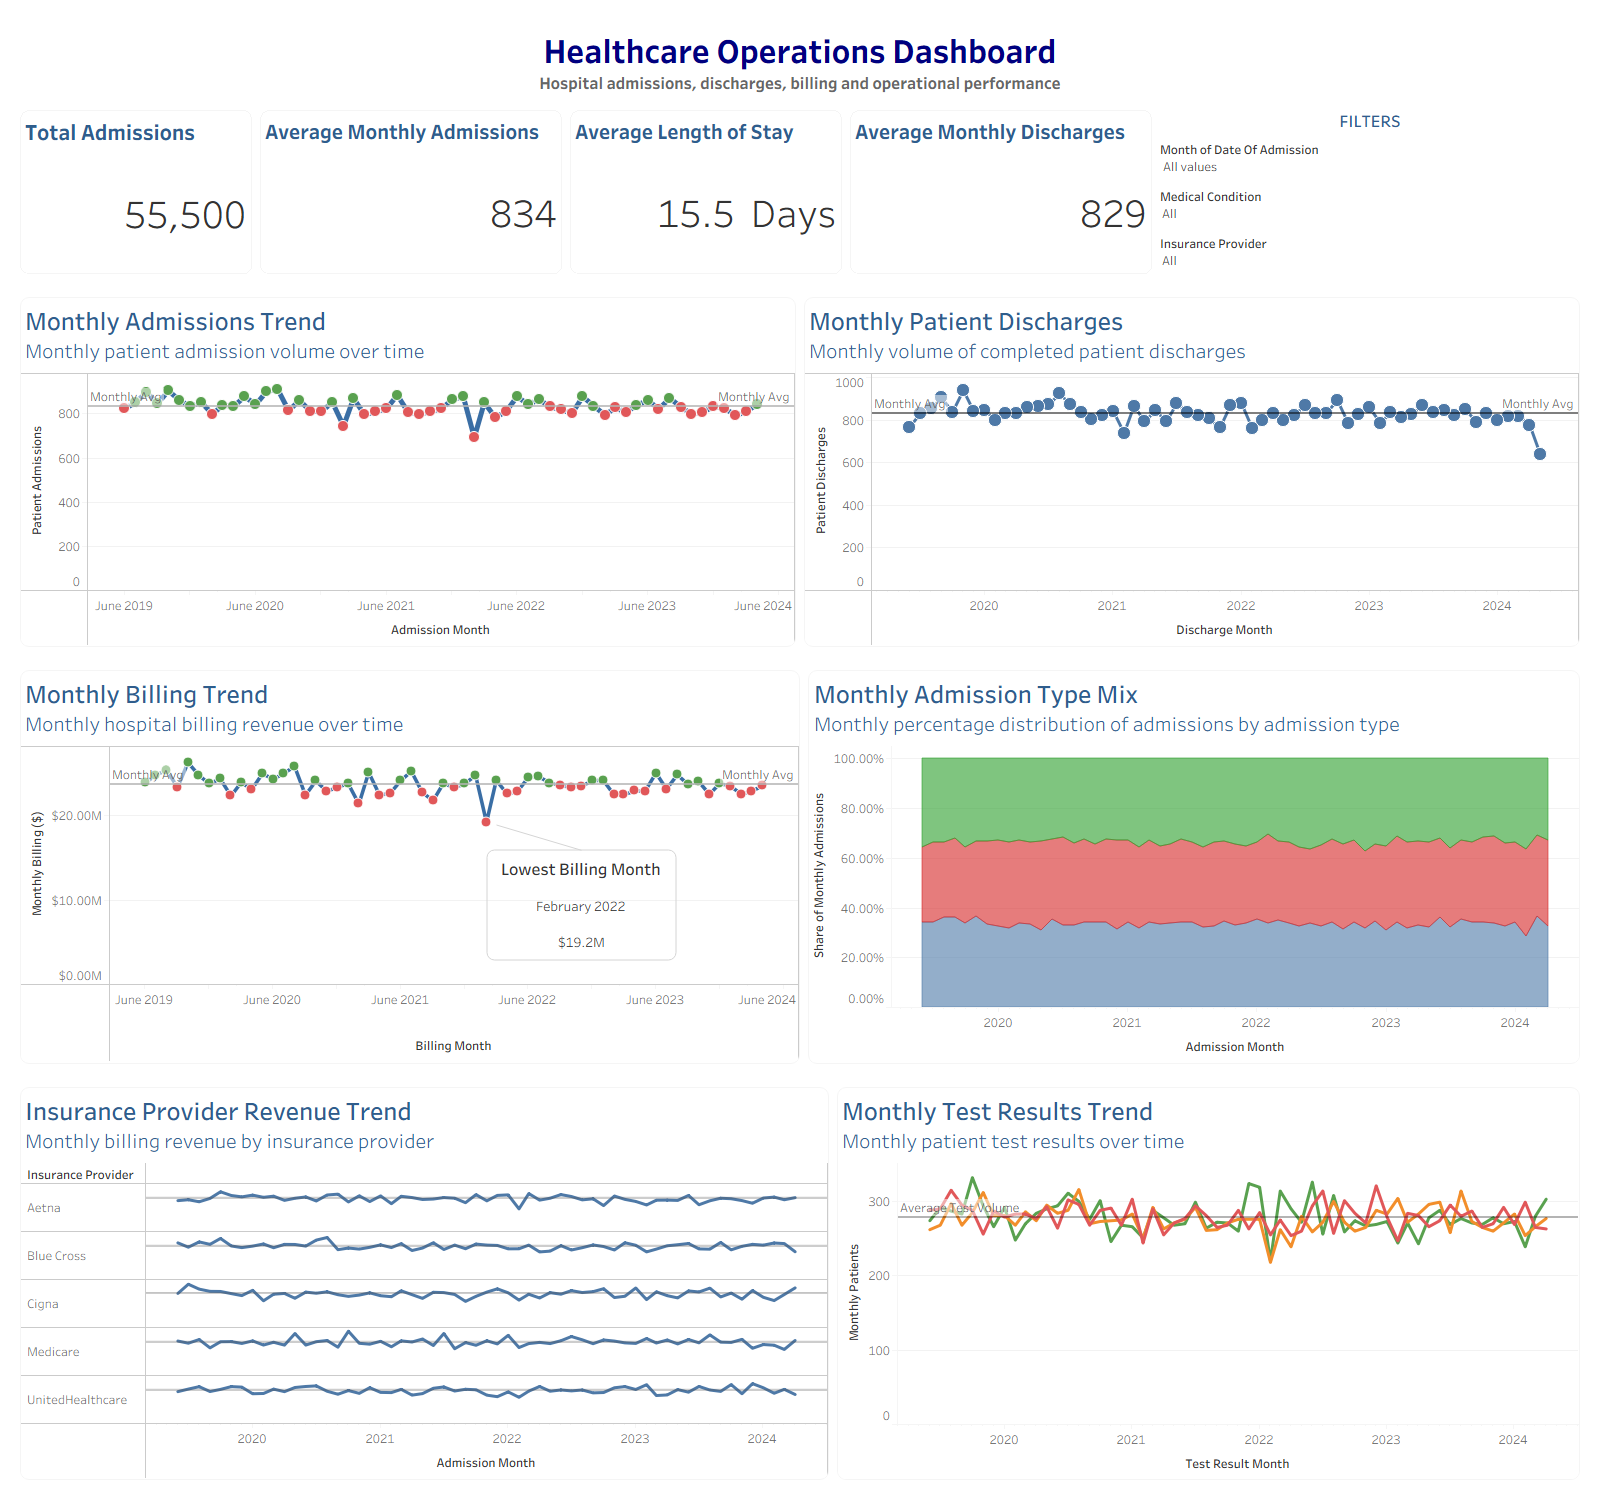

This screenshot's page, from the dashboard's own definition file:
{"tool":"tableau","page":{"name":"Healthcare Operations Dashboard","canvas":[1600,1500],"ordinal":2},"visuals":[{"type":"text","box":[16,16,1568,90]},{"type":"worksheet","title":"KPI_Total_Admissions","mark":"Automatic","box":[16,106,240,172]},{"type":"worksheet","title":"KPI_Average_Monthly_Admissions","mark":"Automatic","box":[256,106,310,172]},{"type":"worksheet","title":"KPI_Average_Length_of_Stay","mark":"Automatic","box":[566,106,280,172]},{"type":"worksheet","title":"KPI_Average_Monthly_Discharges","mark":"Automatic","box":[846,106,310,172]},{"type":"text","box":[1156,106,428,30]},{"type":"filter","title":"CH_Monthly_Admissions_Trend","param":"[federated.0p1oytu19cqjnp1az2i7l1lwrwhq].[tmn:date_of_admission:qk]","box":[1156,136,428,47]},{"type":"filter","title":"CH_Monthly_Admissions_Trend","param":"[federated.0p1oytu19cqjnp1az2i7l1lwrwhq].[none:medical_condition:nk]","box":[1156,183,428,47.5]},{"type":"filter","title":"CH_Monthly_Admissions_Trend","param":"[federated.0p1oytu19cqjnp1az2i7l1lwrwhq].[none:insurance_provider:nk]","box":[1156,230.5,428,47.5]},{"type":"blank","box":[16,278,1568,15]},{"type":"worksheet","title":"CH_Monthly_Admissions_Trend","mark":"Line","rows":["patient_name","patient_name"],"cols":["date_of_admission"],"box":[16,293,784,358]},{"type":"worksheet","title":"CH_Monthly_Discharge_Throughput","mark":"Line","rows":["patient_name","patient_name"],"cols":["discharge_date"],"box":[800,293,784,358]},{"type":"blank","box":[16,651,1568,15]},{"type":"worksheet","title":"CH_Monthly_Billing_Trend","mark":"Line","rows":["billing_amount","billing_amount"],"cols":["date_of_admission"],"box":[16,666,788.5,401.5]},{"type":"worksheet","title":"CH_Monthly_Admission_Type_Mix","mark":"Area","cols":["date_of_admission"],"box":[804.5,666,779.5,401.5]},{"type":"blank","box":[16,1067.5,1568,15]},{"type":"worksheet","title":"CH_Insurance_Provider_Revenue_Trend","mark":"Line","rows":["insurance_provider","billing_amount"],"cols":["date_of_admission"],"box":[16,1082.5,817.5,401.5]},{"type":"worksheet","title":"CH_Monthly_Test_Results_Trend","mark":"Line","rows":["patient_name"],"cols":["date_of_admission"],"box":[833.5,1082.5,750.5,401.5]}]}

Visuals, with their boxes in screenshot pixels (x1, y1, x2, y2), scaled from the page's 1600x1500 canvas onto the 1600x1500 screenshot:
text: x1=16 y1=16 x2=1584 y2=106
"KPI_Total_Admissions" worksheet: x1=16 y1=106 x2=256 y2=278
"KPI_Average_Monthly_Admissions" worksheet: x1=256 y1=106 x2=566 y2=278
"KPI_Average_Length_of_Stay" worksheet: x1=566 y1=106 x2=846 y2=278
"KPI_Average_Monthly_Discharges" worksheet: x1=846 y1=106 x2=1156 y2=278
text: x1=1156 y1=106 x2=1584 y2=136
"CH_Monthly_Admissions_Trend" filter: x1=1156 y1=136 x2=1584 y2=183
"CH_Monthly_Admissions_Trend" filter: x1=1156 y1=183 x2=1584 y2=230
"CH_Monthly_Admissions_Trend" filter: x1=1156 y1=230 x2=1584 y2=278
blank: x1=16 y1=278 x2=1584 y2=293
"CH_Monthly_Admissions_Trend" worksheet (Line marks): x1=16 y1=293 x2=800 y2=651
"CH_Monthly_Discharge_Throughput" worksheet (Line marks): x1=800 y1=293 x2=1584 y2=651
blank: x1=16 y1=651 x2=1584 y2=666
"CH_Monthly_Billing_Trend" worksheet (Line marks): x1=16 y1=666 x2=804 y2=1068
"CH_Monthly_Admission_Type_Mix" worksheet (Area marks): x1=804 y1=666 x2=1584 y2=1068
blank: x1=16 y1=1068 x2=1584 y2=1082
"CH_Insurance_Provider_Revenue_Trend" worksheet (Line marks): x1=16 y1=1082 x2=834 y2=1484
"CH_Monthly_Test_Results_Trend" worksheet (Line marks): x1=834 y1=1082 x2=1584 y2=1484
